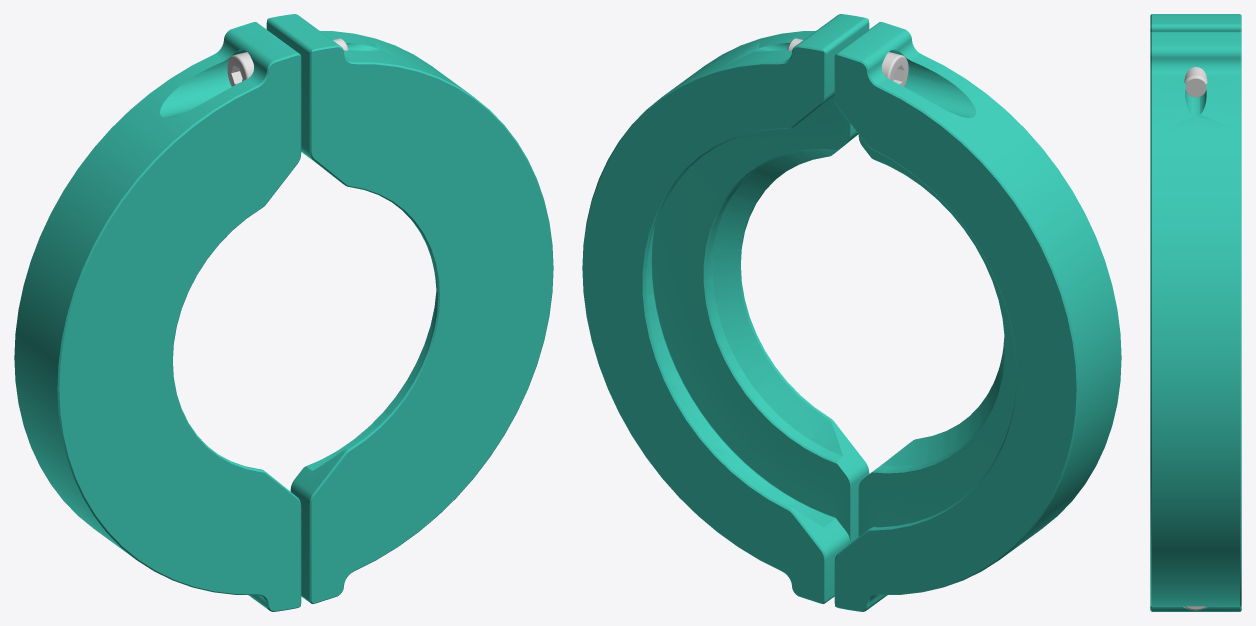
The picture shows the model from 3 angles, left to right: view 1: azimuth 30°, elevation 25°; view 2: azimuth 150°, elevation 25°; view 3: azimuth 270°, elevation 25°; orthographic projection. The views are drawn at different scales.
Parts seen in each view (by area): view 1: C116-86; view 2: C116-86; view 3: C116-86.
Part boxes in pixels (box(x1,y1,x2,y2)): C116-86: box(14, 14, 553, 611); C116-86: box(582, 14, 1121, 611); C116-86: box(1150, 14, 1241, 611).
Bounding box in the file's own units: 0.116 × 0.1239 × 0.018.
